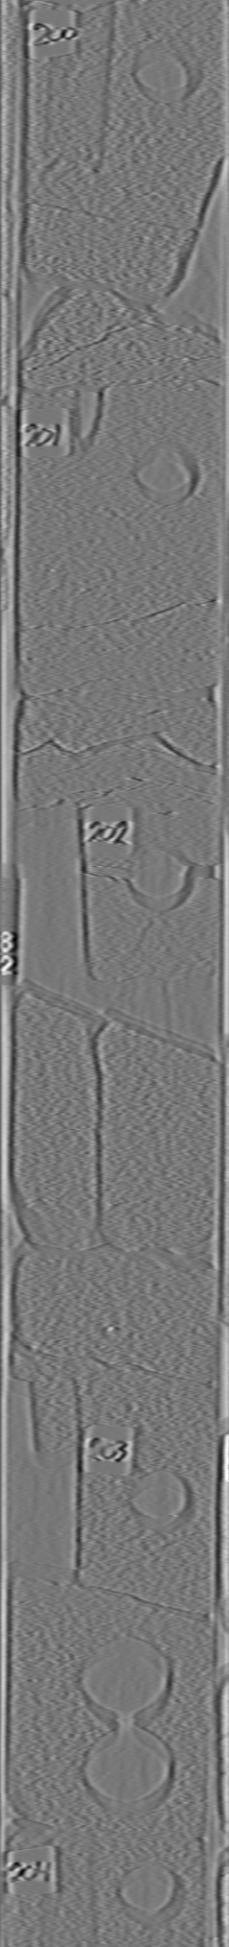hplug: (121, 30, 209, 112), (121, 435, 207, 512), (119, 842, 199, 918), (123, 1458, 197, 1538), (111, 1856, 190, 1928)
scal: (73, 1726, 185, 1822), (71, 1630, 175, 1726)
vplug: (1, 1380, 85, 1588), (12, 788, 95, 988), (37, 1, 115, 176)
